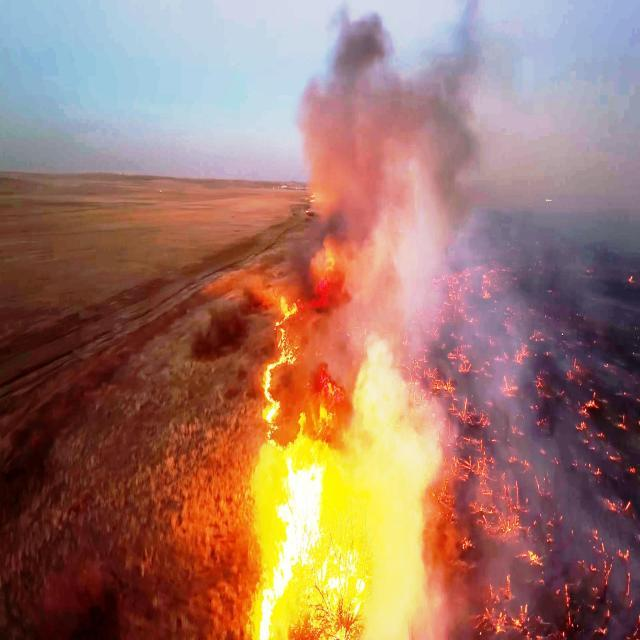Fire: (271, 427, 322, 569)
Smoke: (310, 21, 465, 220), (355, 353, 450, 636), (356, 114, 462, 334)
